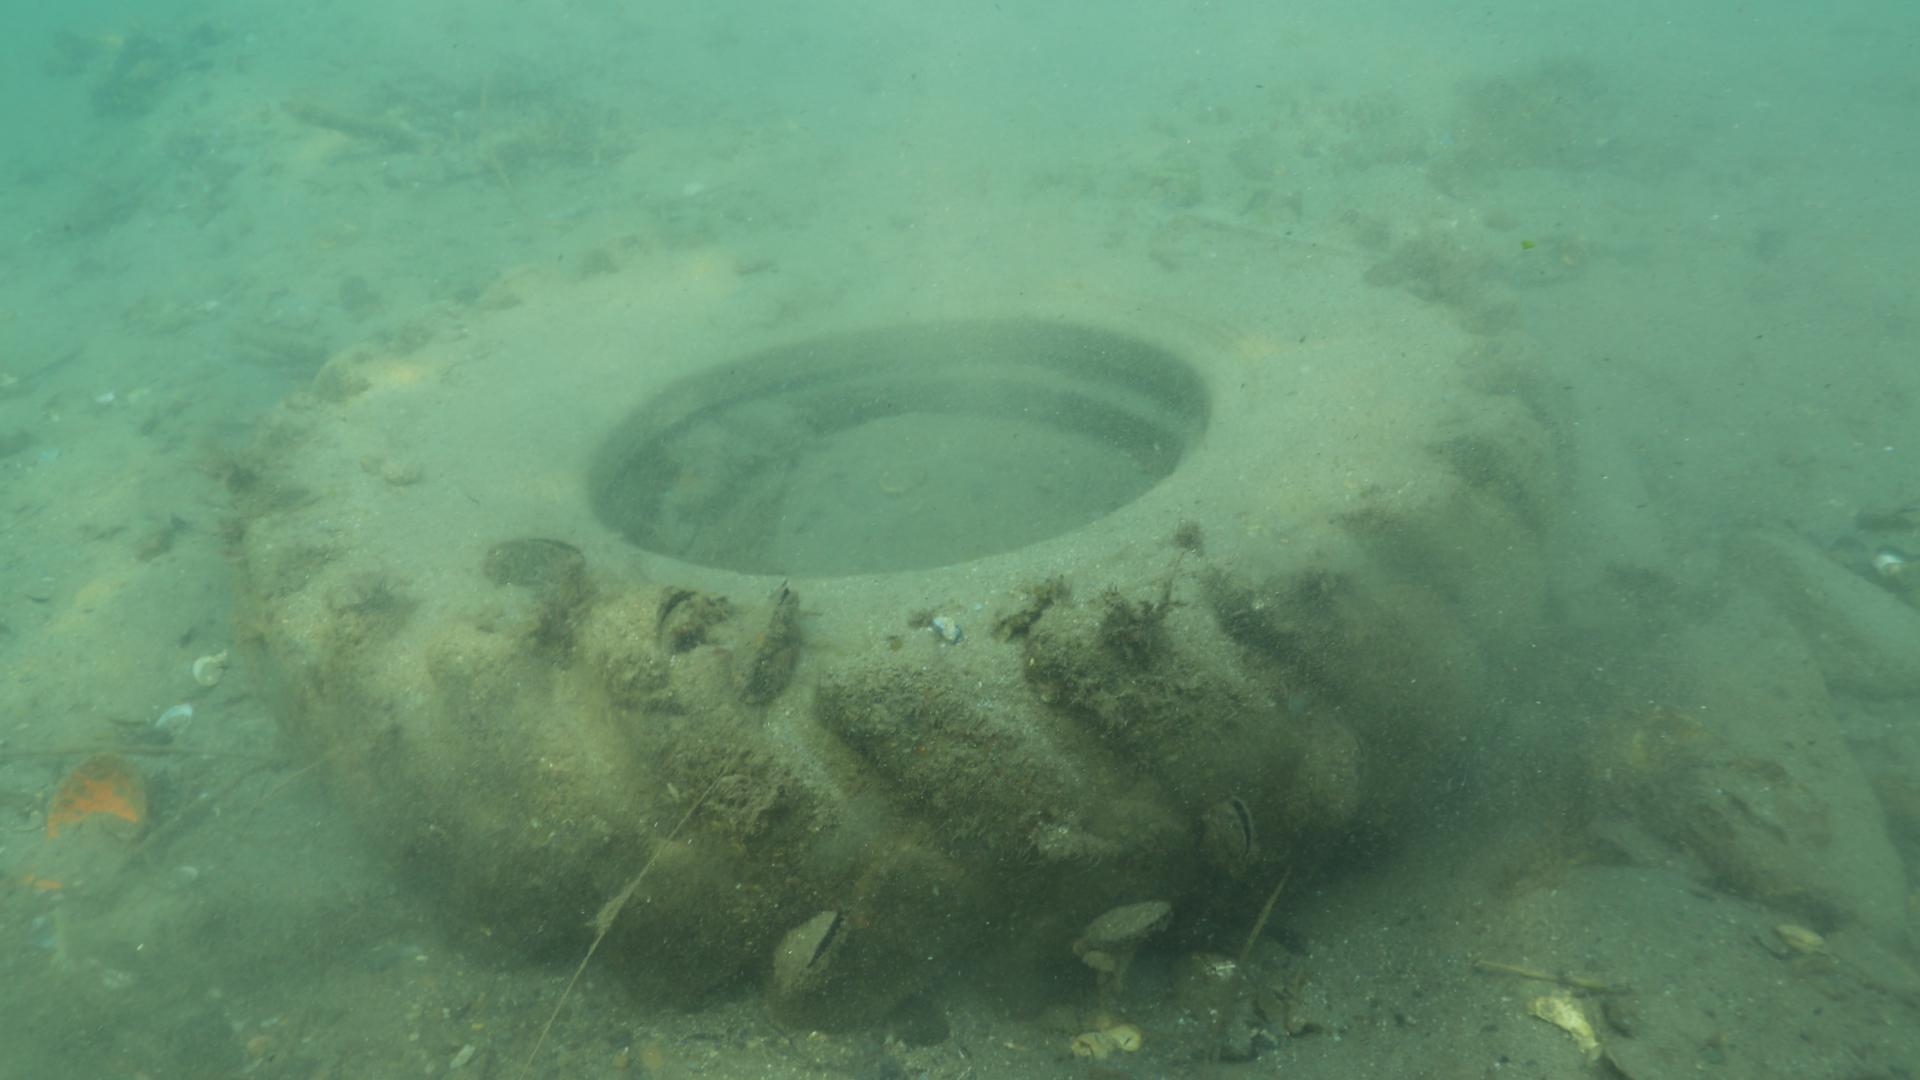tire: (227, 187, 1571, 1015)
